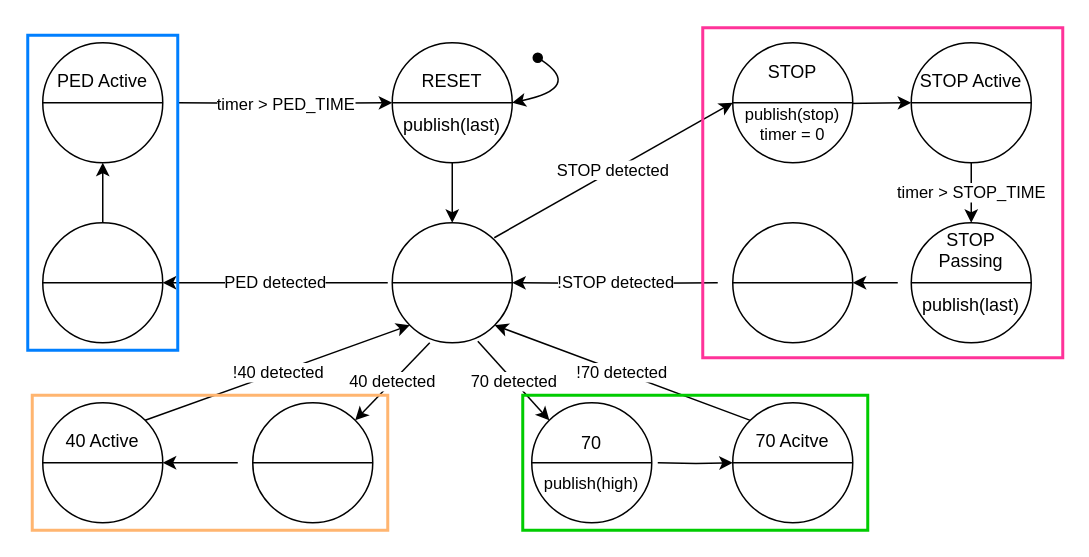
Some shapes in this 1089 by 557 pixel diagram are drawn without their labels. Each missing label, with the box of its shape:
40 publish(medium): (251, 401, 373, 523)
DEFAULT last = current: (391, 221, 512, 343)
PED publish(slow) timer = 0: (41, 221, 163, 343)
STOP Passing Active: (731, 221, 853, 343)
